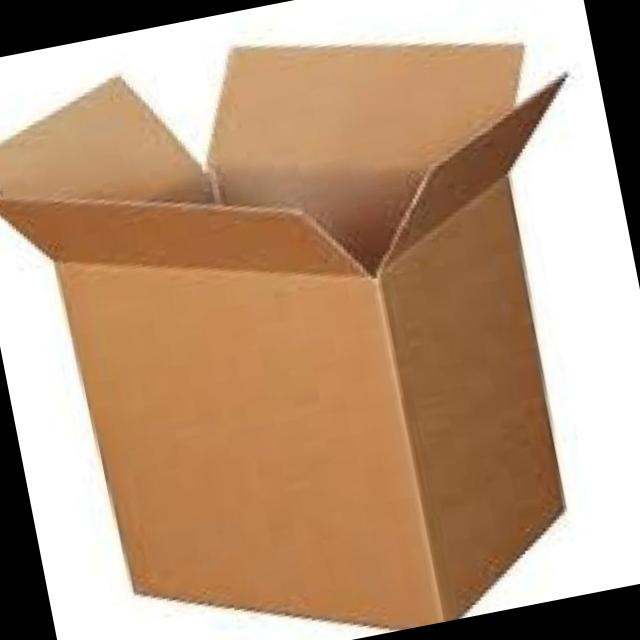cardboard paper: (0, 42, 559, 628)
